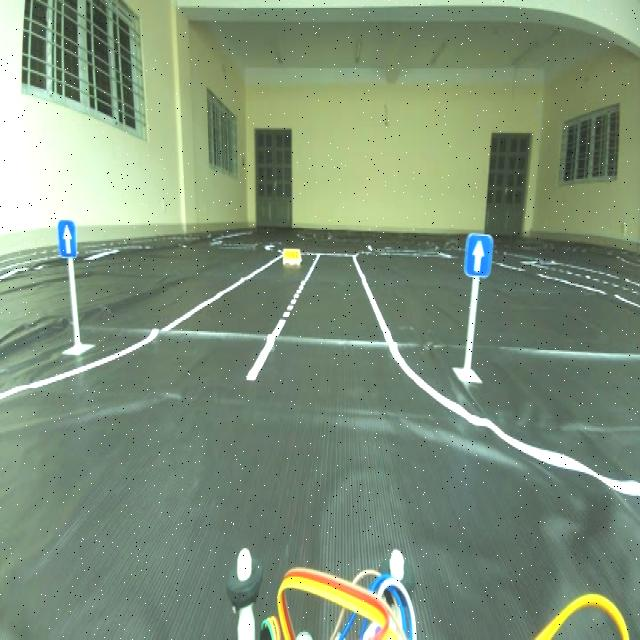onewayroad: (460, 226, 490, 284), (54, 220, 85, 262)
roadblock: (276, 246, 302, 263)
